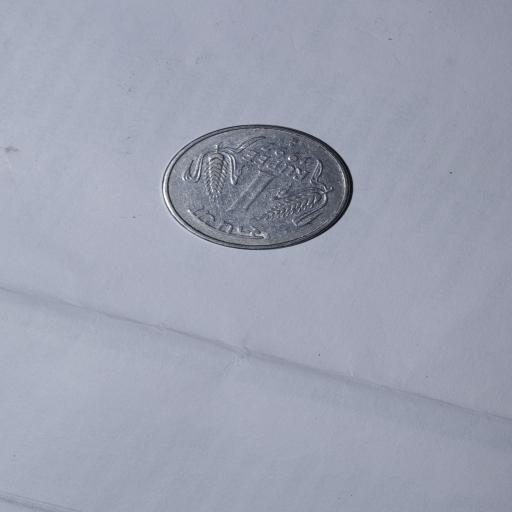rupee1: (156, 124, 357, 255)
